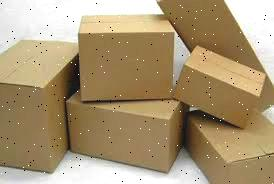Box: (0, 40, 79, 172), (67, 91, 184, 172), (79, 16, 174, 101), (158, 0, 265, 73), (175, 46, 265, 128), (185, 111, 274, 183), (261, 75, 274, 111)
